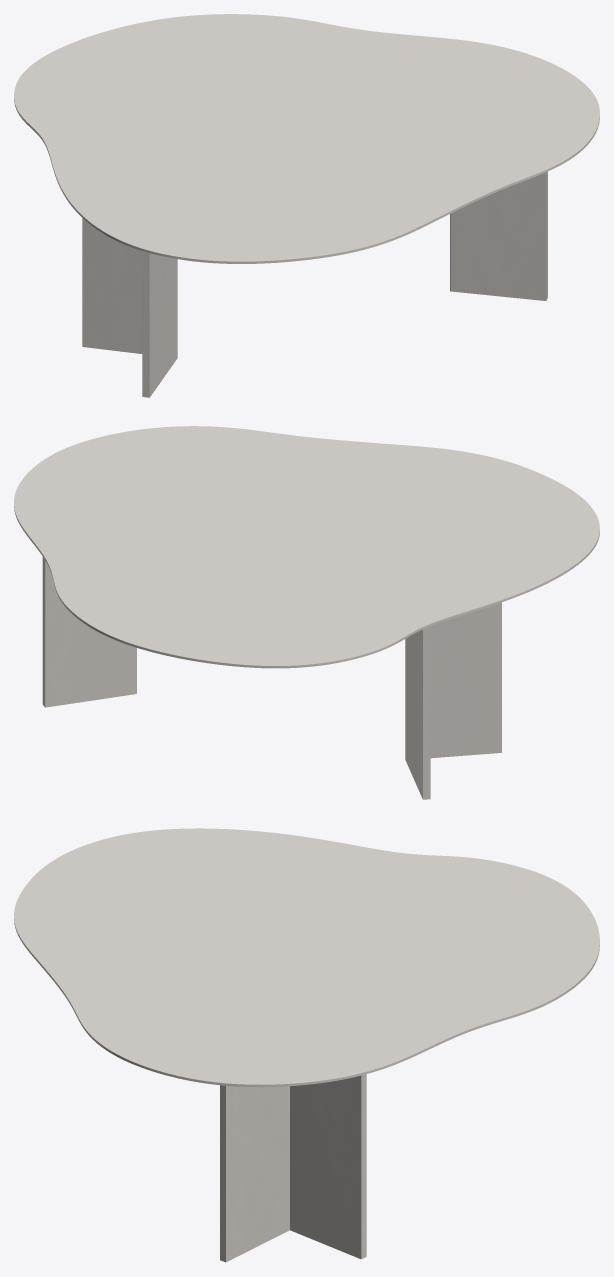
Rendered from pearlwhite_topone_facet_valleyv.glb.
The picture shows the model from 3 angles, top to bottom: view 1: azimuth 30°, elevation 25°; view 2: azimuth 150°, elevation 25°; view 3: azimuth 270°, elevation 25°; orthographic projection. The views are drawn at different scales.
Visible parts, largest first — view 1: facet_topone, valleyv; view 2: facet_topone, valleyv; view 3: facet_topone, valleyv.
Part boxes in pixels (x1,y1,x2,y2): facet_topone: (14,14,599,263); valleyv: (82,171,547,397); facet_topone: (14,426,599,668); valleyv: (42,557,501,799); facet_topone: (14,828,599,1087); valleyv: (220,1074,366,1262).
Size of the model in its own units: 6.83 by 2.5 by 6.6.
1 material, 1 textured.
